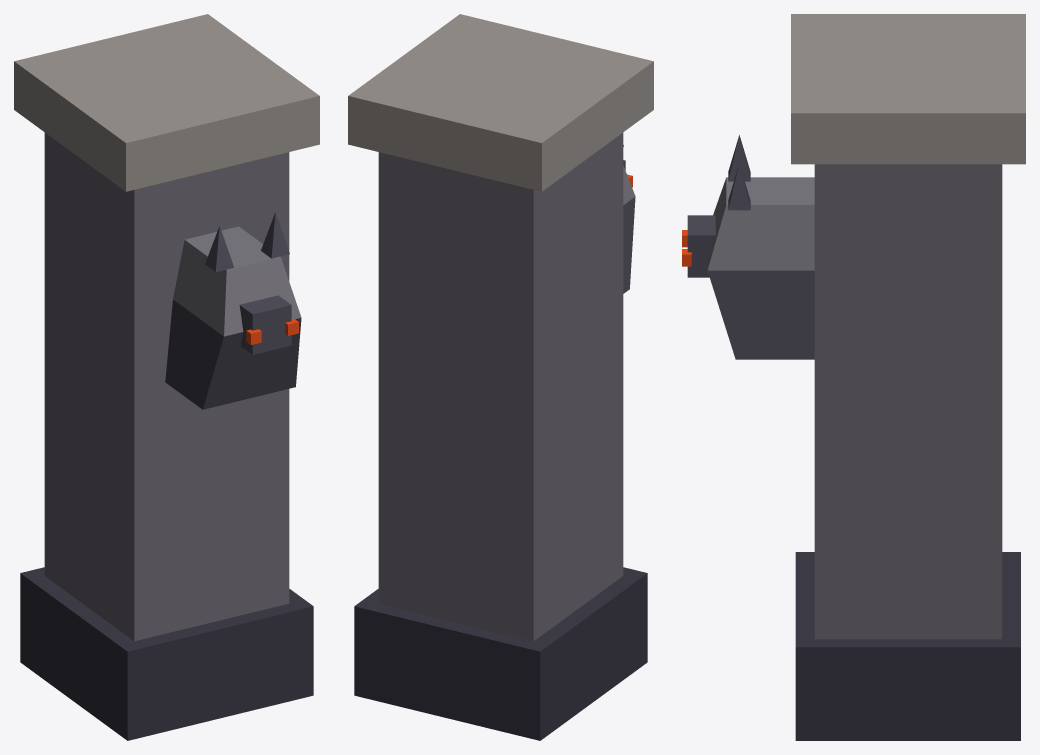
Rendered from wall_post_tall_gargoyle.fbx.
3 views of the same model, side by side, from view 1: azimuth 30°, elevation 25°; view 2: azimuth 150°, elevation 25°; view 3: azimuth 270°, elevation 25° (orthographic). The views are drawn at different scales.
Visible parts, largest first — view 1: wall_post_tall_gargoyle; view 2: wall_post_tall_gargoyle; view 3: wall_post_tall_gargoyle.
Boxes of the visible parts, box(x1,y1,x2,y2) form: wall_post_tall_gargoyle: box(14, 14, 319, 740); wall_post_tall_gargoyle: box(348, 14, 653, 740); wall_post_tall_gargoyle: box(682, 14, 1025, 740).
Bounding box in the file's own units: 1.25 × 3.7 × 1.83.
